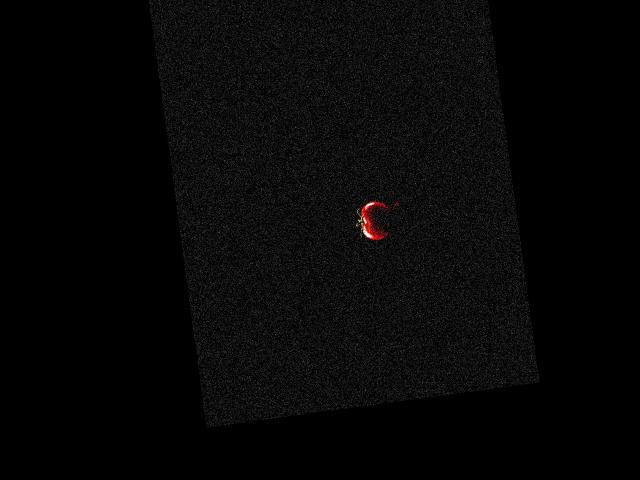tomato: (357, 199, 393, 241)
